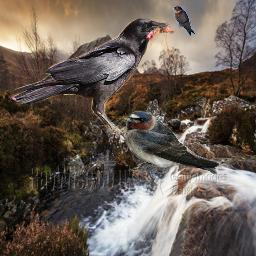Crow: (8, 14, 187, 134)
Swallow: (121, 110, 221, 175), (172, 6, 195, 36)
